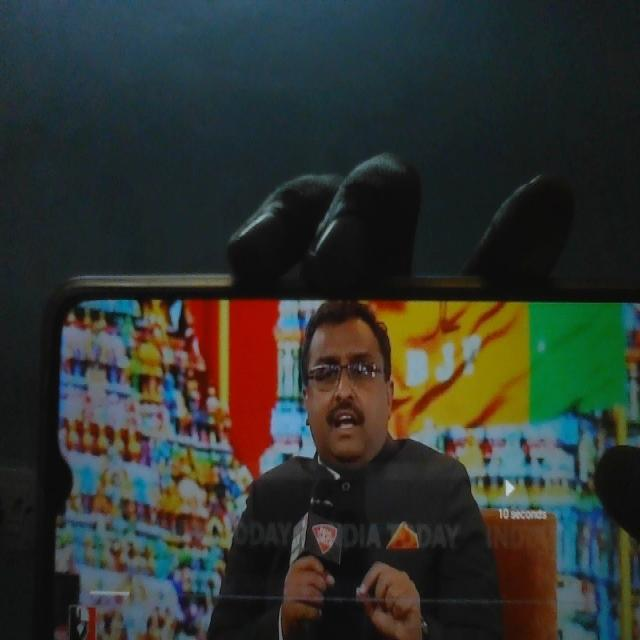fake: (298, 289, 396, 475)
